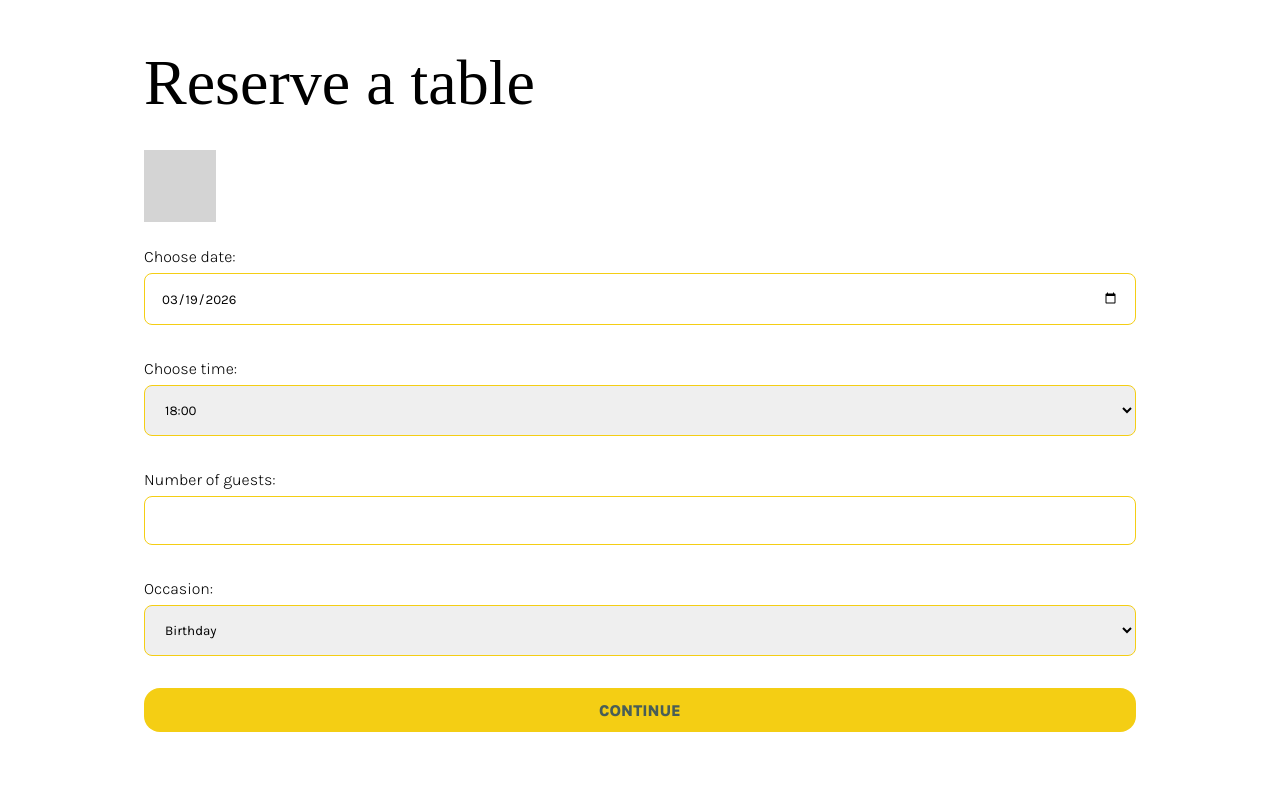
Test case: BookingPage › submit booking form › should return to step 1 when Edit is clicked
This screenshot has width=1280, height=793.
In the date field labelled "Choose date:": (640, 299) [144,273,1136,325], type "2026-03-17"
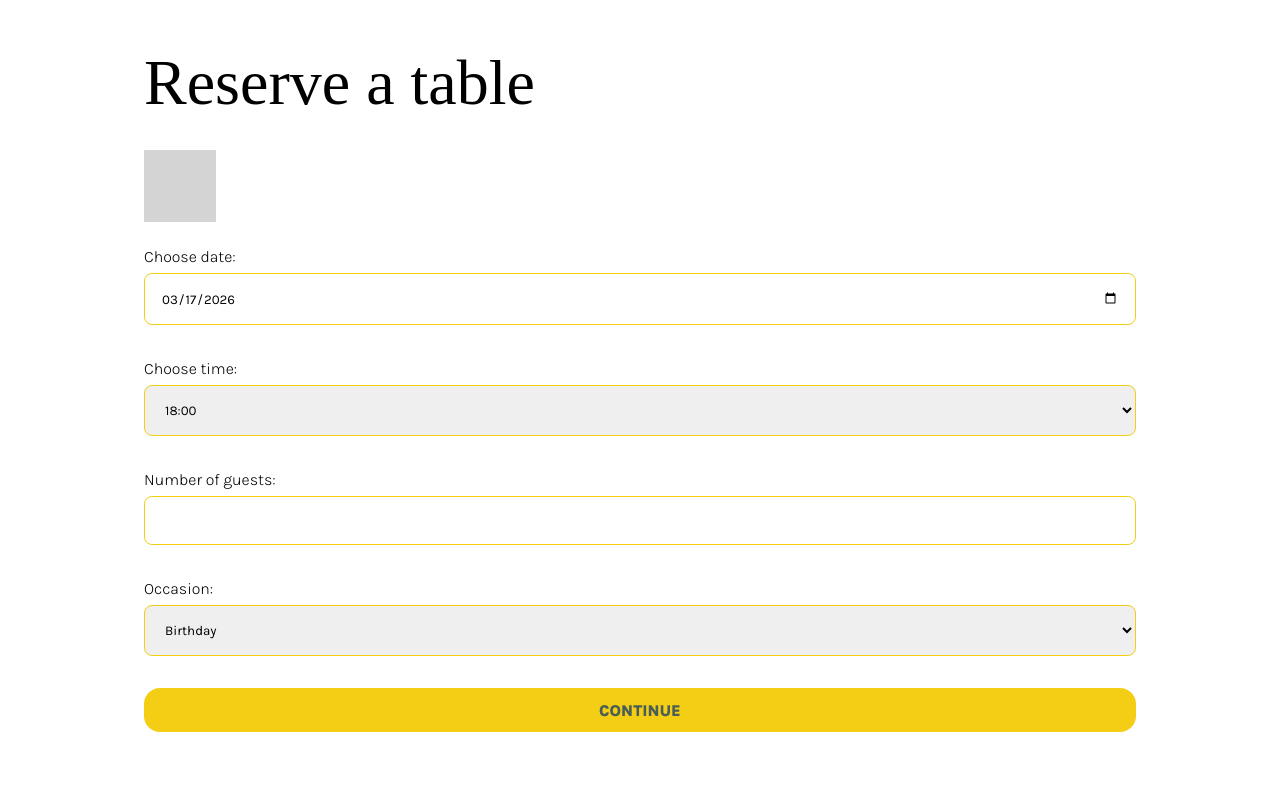
Select "18:00" in the dropdown labelled "Choose time:": (640, 410) [144,385,1136,436]
In the number field labelled "Number of guests:": (640, 520) [144,496,1136,545], type "2"
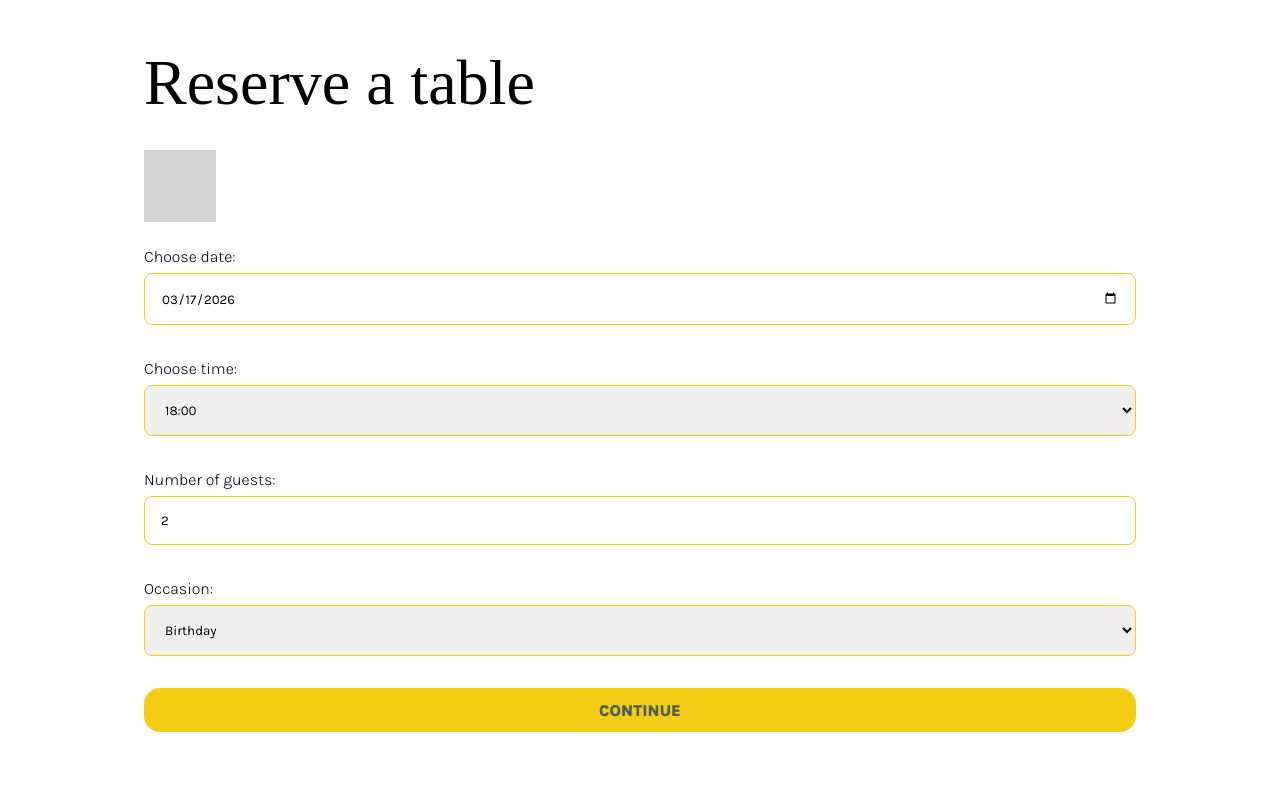
Select "Birthday" in the dropdown labelled "Occasion:": (640, 630) [144,605,1136,656]
Click the button "Continue": (640, 710) [144,688,1136,732]
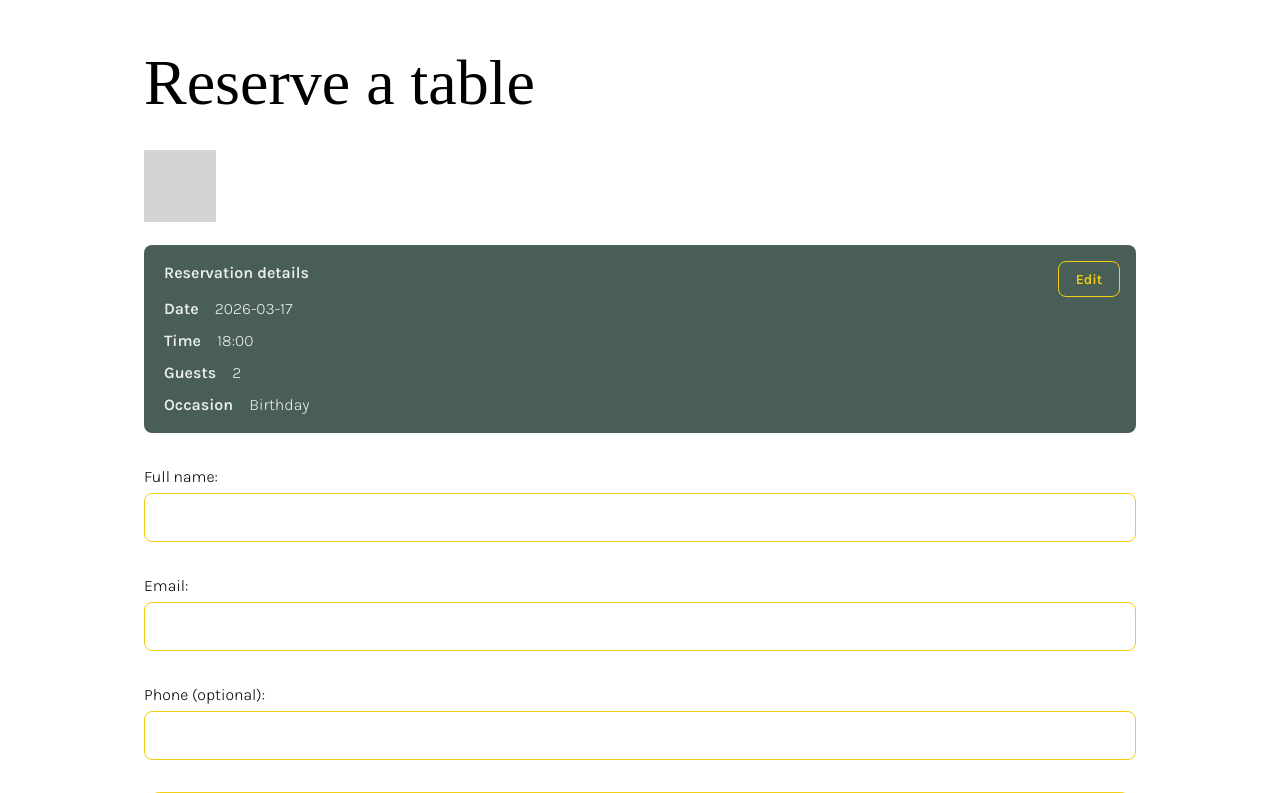
Expected: the heading "Reservation details" is shown, [164,263,309,282]
Click the button "Edit": (1089, 279) [1058,261,1120,297]
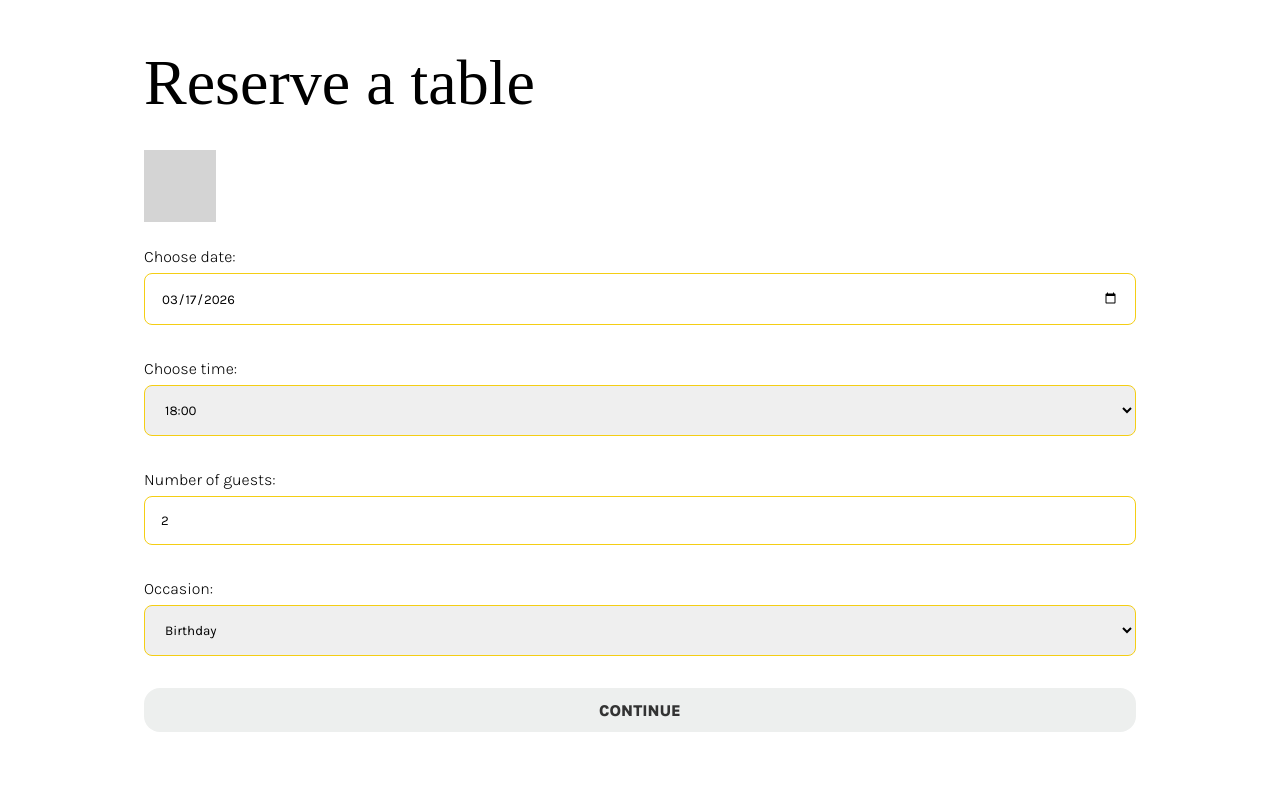
Expected: the heading "Reservation details" is gone
Expected: the button "Continue" is shown, [144,688,1136,732]
